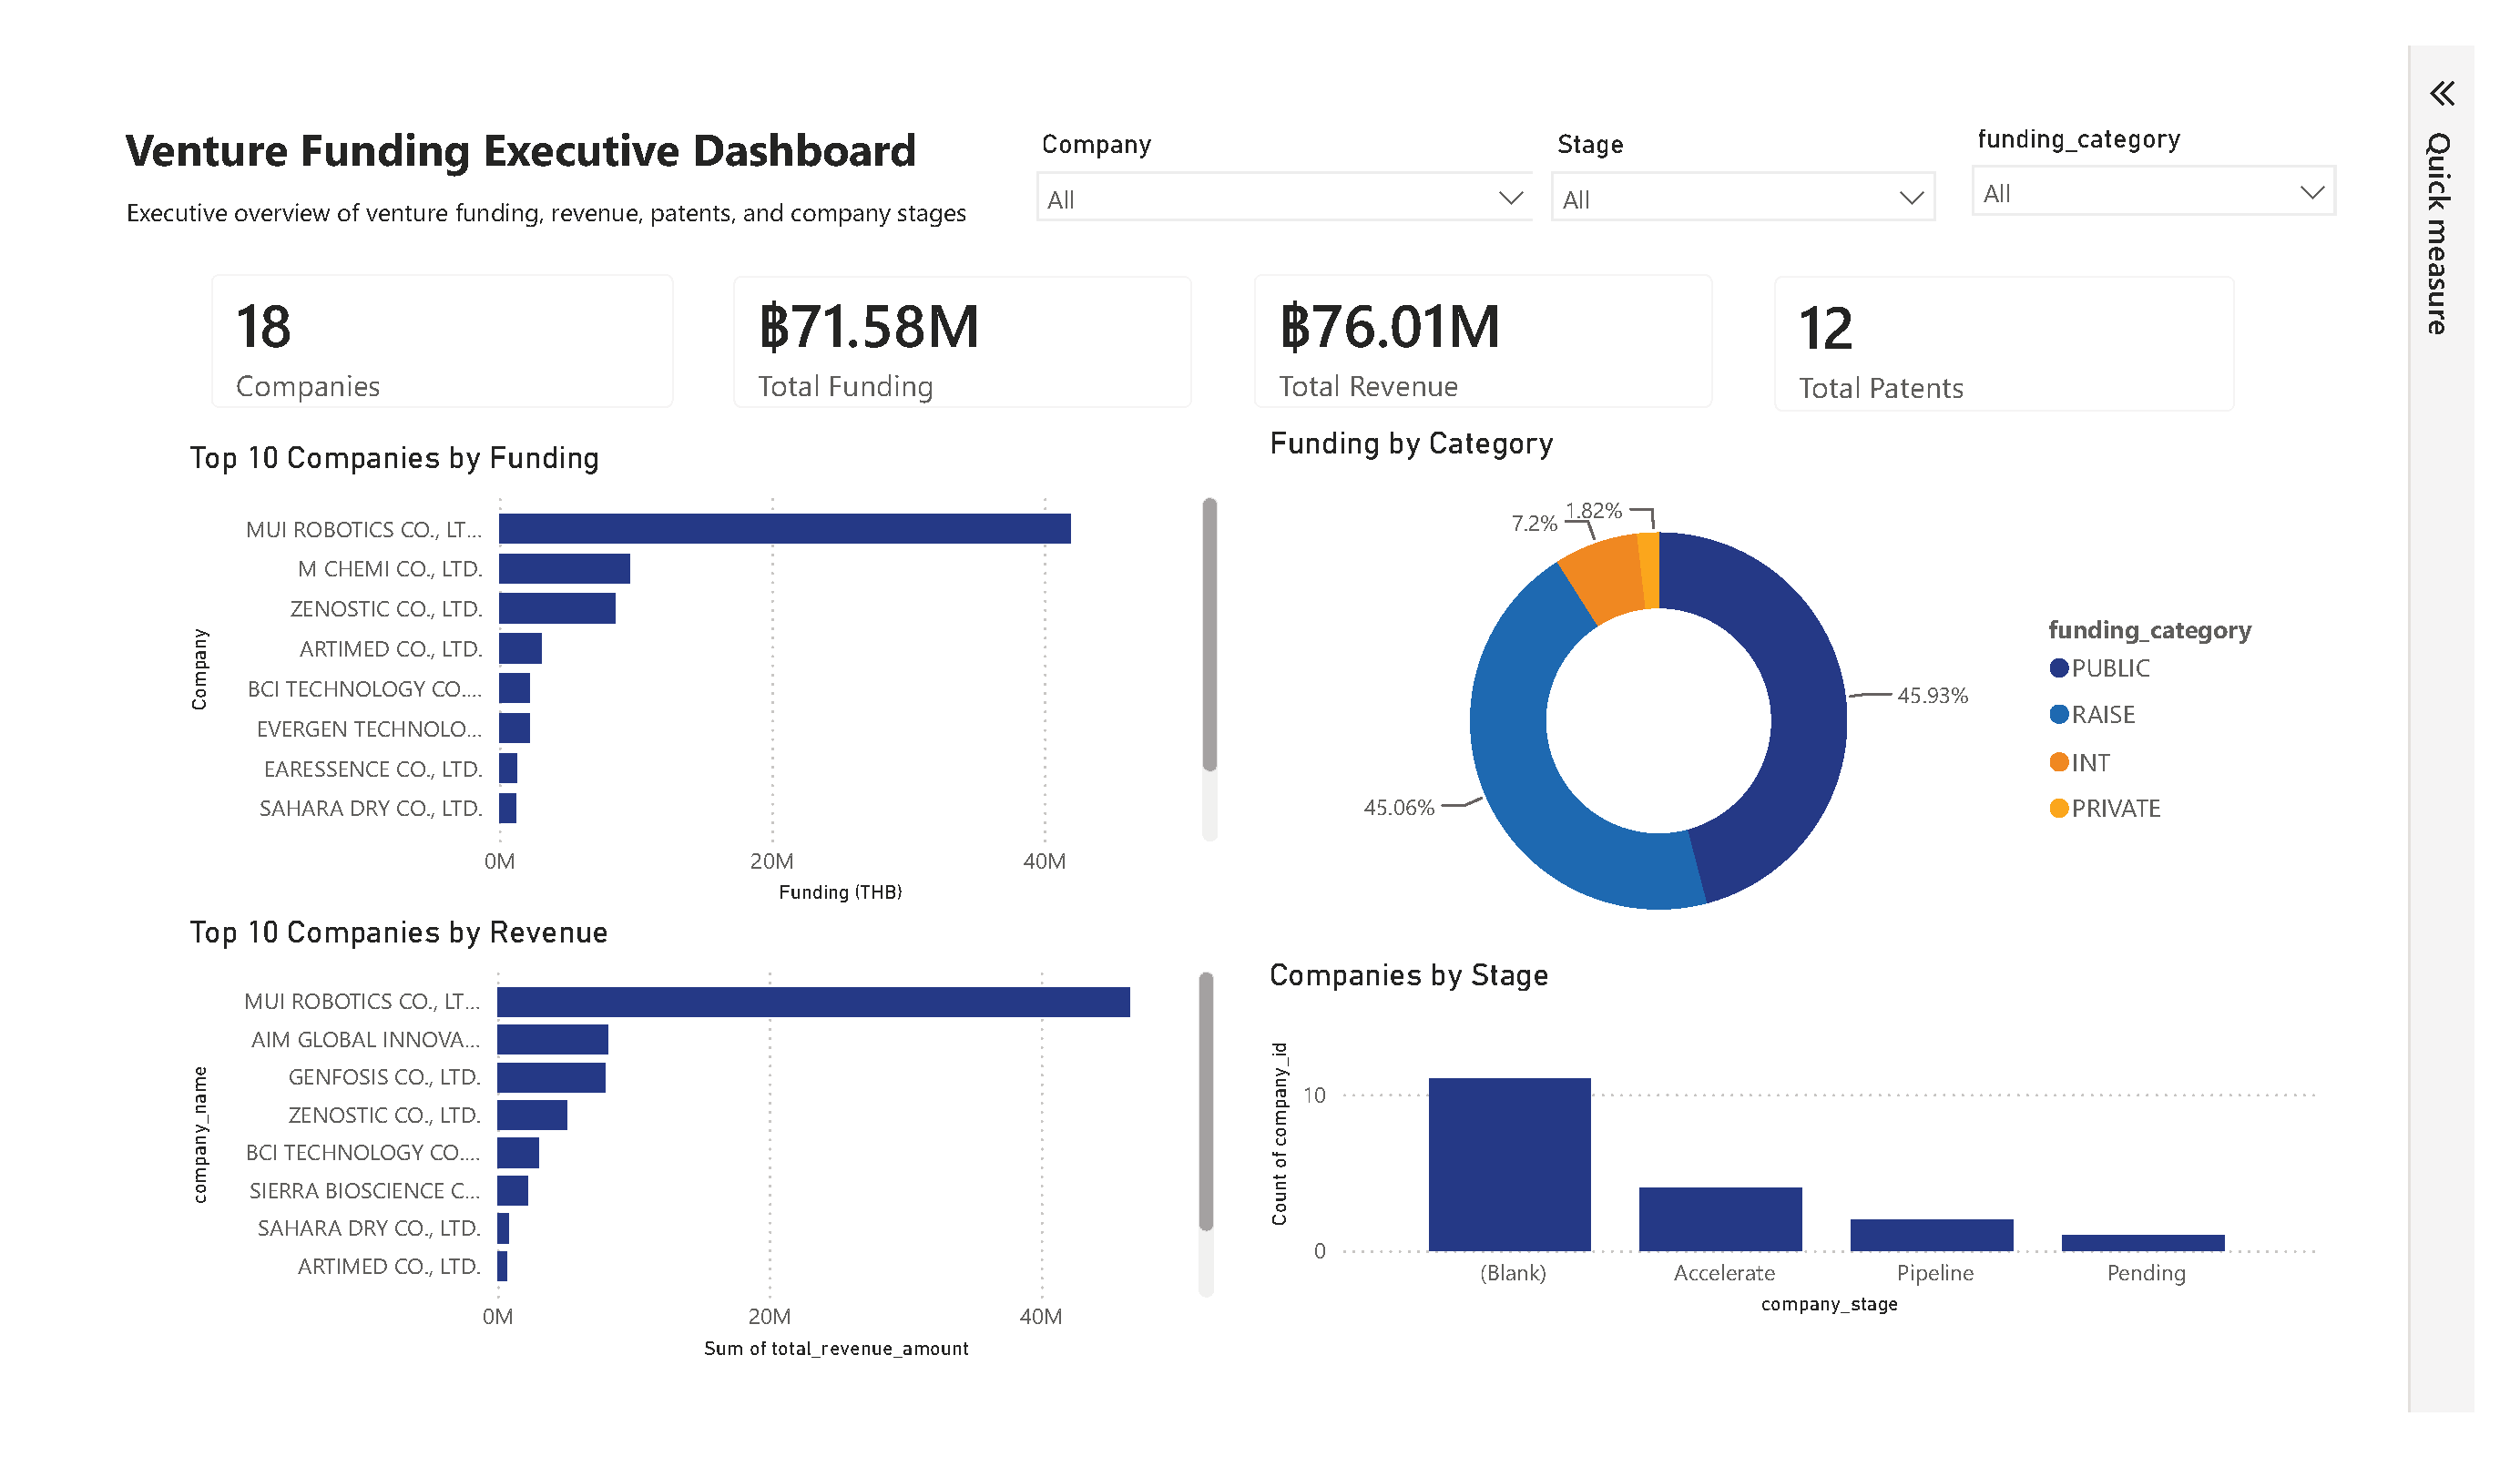

The dashboard page shown, as its layout file describes it:
{"tool":"powerbi","page":{"name":"Executive Dashboard","canvas":[1280,720],"ordinal":0},"visuals":[{"type":"cardVisual","fields":{"Data":["CountNonNull(public company_dashboard_view.company_id)"]},"box":[73.3,96.7,283.3,106.7],"z":1000},{"type":"cardVisual","fields":{"Data":["Sum(public company_dashboard_view.total_funding_amount)"]},"box":[356,97.6,282.2,105.6],"z":2000},{"type":"cardVisual","fields":{"Data":["Sum(public company_dashboard_view.total_revenue_amount)"]},"box":[638.3,96.7,281.7,106.7],"z":3000},{"type":"clusteredBarChart","title":"Top 10 Companies by Funding","fields":{"Category":["public company_dashboard_view.company_name"],"Y":["Sum(public company_dashboard_view.total_funding_amount)"]},"box":[73.3,203.3,566.7,256.7],"z":4000},{"type":"cardVisual","fields":{"Data":["Sum(public company_dashboard_view.total_patents)"]},"box":[920,98.3,283.3,106.7],"z":5000},{"type":"slicer","fields":{"Values":["public company_dashboard_view.company_name"]},"box":[526.7,30,290,68.3],"z":6000},{"type":"slicer","title":"Stage","fields":{"Values":["public company_dashboard_view.company_stage"]},"box":[805.7,30,228.6,68.6],"z":7000},{"type":"donutChart","title":"Funding by Category","fields":{"Category":["public funding_by_category_view.funding_category"],"Y":["Sum(public funding_by_category_view.total_funding)"]},"box":[658.3,195,556.7,303.3],"z":8000},{"type":"clusteredBarChart","title":"Top 10 Companies by Revenue","fields":{"Category":["public company_dashboard_view.company_name"],"Y":["Sum(public company_dashboard_view.total_revenue_amount)"]},"box":[73.3,460,565,246.7],"z":9000},{"type":"columnChart","title":"Companies by Stage","fields":{"Category":["public company_dashboard_view.company_stage"],"Y":["CountNonNull(public company_dashboard_view.company_id)"]},"box":[658.3,483.3,576.7,200],"z":10000},{"type":"slicer","fields":{"Values":["public funding_by_category_view.funding_category"]},"box":[1034.3,27.1,217.1,75.7],"z":11000},{"type":"textbox","box":[38,24,455,42],"z":12000},{"type":"textbox","box":[38,66,467,33],"z":13000}]}

Visuals, with their boxes on the page's 1280x720 design canvas (x1, y1, x2, y2). These are canvas units, not pixel positions in the 2520x1457 screenshot, which may show the page scaled, cropped or inside an application window:
cardVisual - CountNonNull(public company_dashboard_view.company_id): 73/97/357/203
cardVisual - Sum(public company_dashboard_view.total_funding_amount): 356/98/638/203
cardVisual - Sum(public company_dashboard_view.total_revenue_amount): 638/97/920/203
"Top 10 Companies by Funding" clusteredBarChart: 73/203/640/460
cardVisual - Sum(public company_dashboard_view.total_patents): 920/98/1203/205
slicer - public company_dashboard_view.company_name: 527/30/817/98
"Stage" slicer: 806/30/1034/99
"Funding by Category" donutChart: 658/195/1215/498
"Top 10 Companies by Revenue" clusteredBarChart: 73/460/638/707
"Companies by Stage" columnChart: 658/483/1235/683
slicer - public funding_by_category_view.funding_category: 1034/27/1251/103
textbox: 38/24/493/66
textbox: 38/66/505/99
